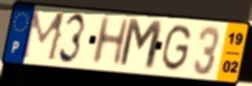3: (57, 12, 91, 66), (193, 24, 221, 78)
G: (159, 23, 193, 73)
H: (88, 15, 132, 67)
M: (117, 16, 166, 73), (19, 9, 69, 64)
